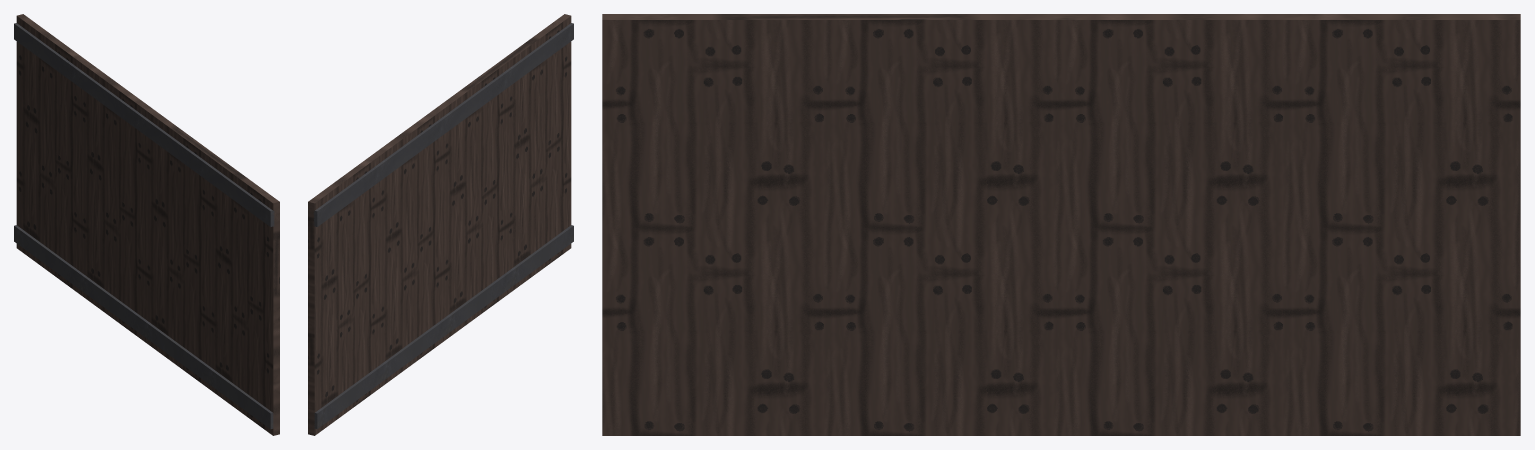
The model's file is 4mWood01.fbx.
3 renders of one model, left to right at view 1: azimuth 30°, elevation 25°; view 2: azimuth 150°, elevation 25°; view 3: azimuth 270°, elevation 25°, orthographic. The views are drawn at different scales.
Visible parts, largest first — view 1: 4mWood01; view 2: 4mWood01; view 3: 4mWood01.
Boxes of the visible parts, x1,y1,x2,y2 form: 4mWood01: [14, 14, 279, 435]; 4mWood01: [308, 14, 573, 435]; 4mWood01: [602, 14, 1520, 435].
Bounding box in the file's own units: 8.37 × 200 × 400.
